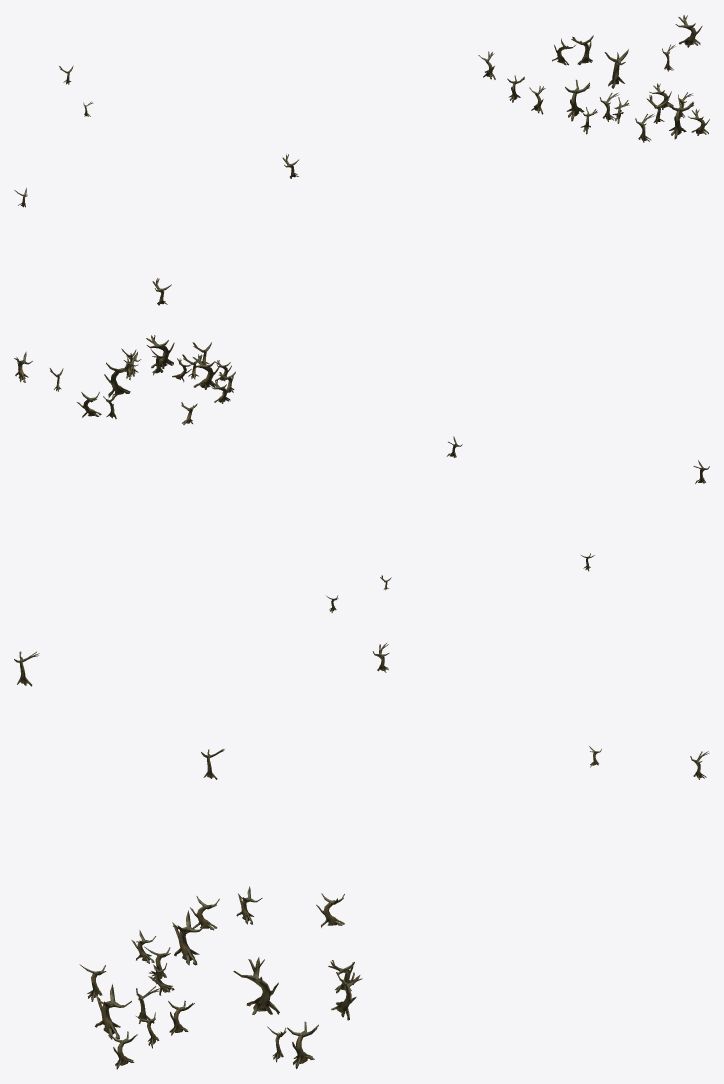
File: Tree1_Block_1.FBX
3 views of the same model, one above another, from view 1: azimuth 30°, elevation 25°; view 2: azimuth 150°, elevation 25°; view 3: azimuth 270°, elevation 25° (orthographic). The views are drawn at different scales.
Visible parts, largest first — view 1: Group22400; view 2: Group22400; view 3: Group22400.
Part boxes in pixels (left/top/right/bottom): Group22400: left=14, top=15, right=709, bottom=305; Group22400: left=14, top=335, right=709, bottom=612; Group22400: left=14, top=643, right=709, bottom=1069.
Size of the model in its own units: 693 by 63.19 by 463.
